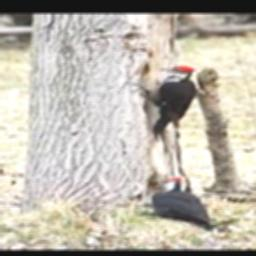Woodpecker: (127, 66, 197, 142), (133, 177, 209, 226)
